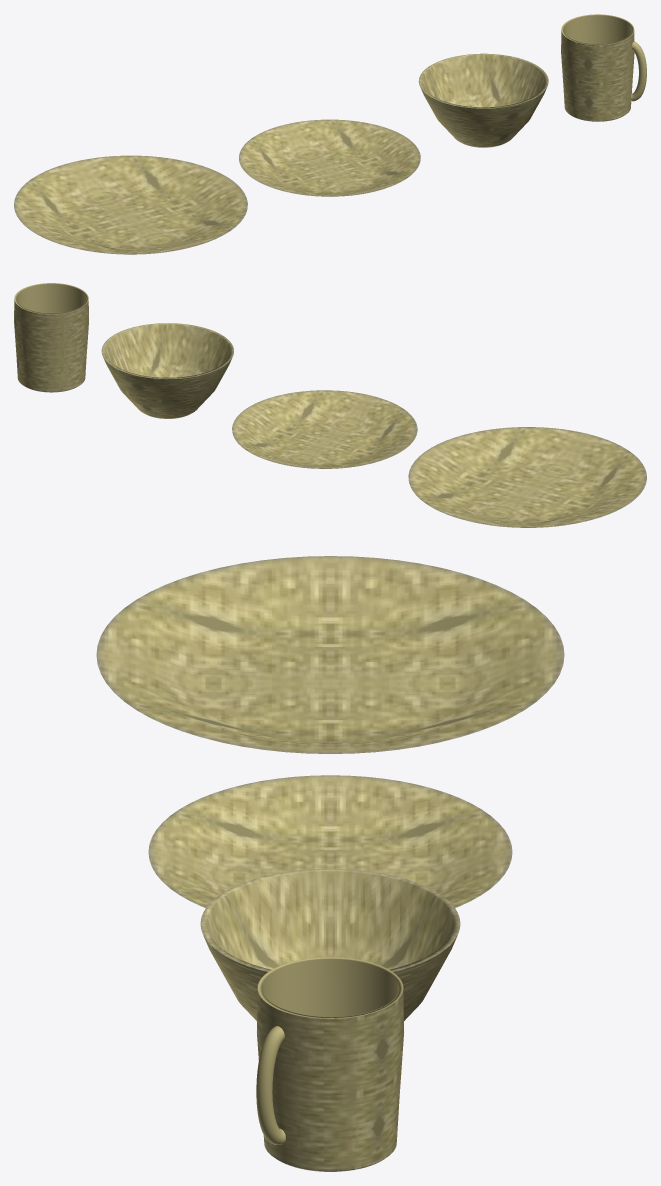
3 views of the same model, one above another, from view 1: azimuth 30°, elevation 25°; view 2: azimuth 150°, elevation 25°; view 3: azimuth 270°, elevation 25° (orthographic). The views are drawn at different scales.
Size of the model in its own units: 0.7997 by 0.1 by 0.27.
9 materials, 7 textured.
